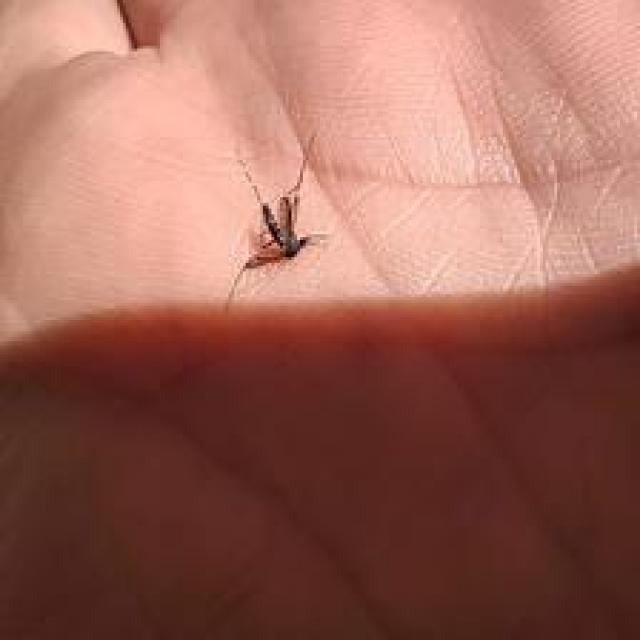Aedes albopictus: (223, 134, 328, 309)
